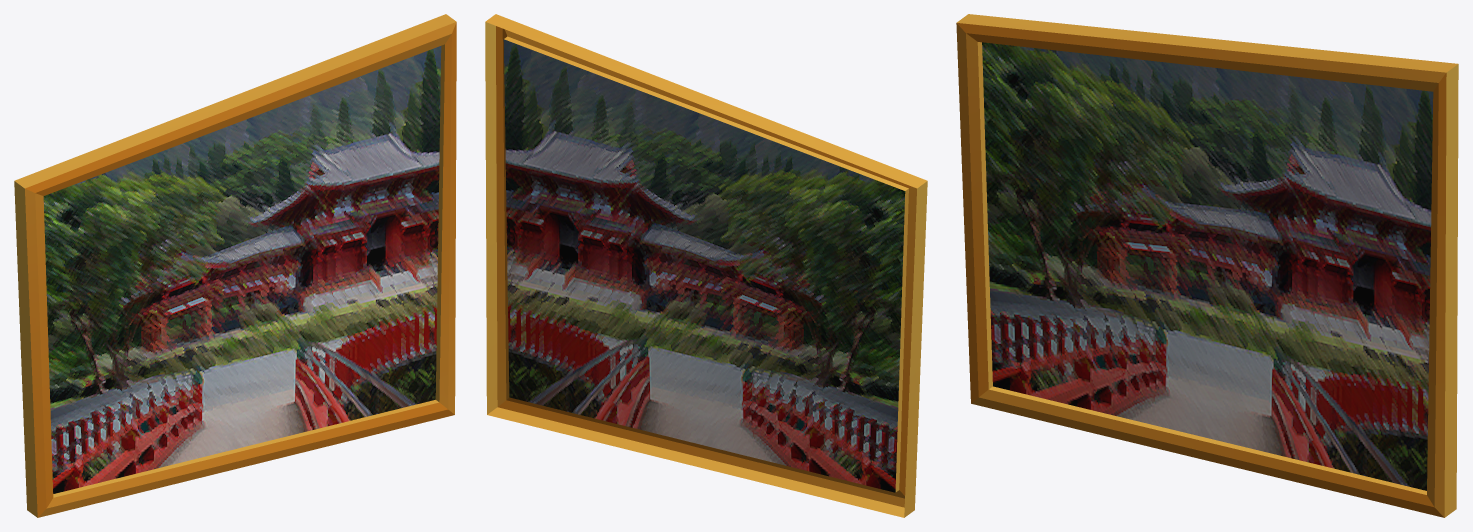
Rendered from painting_07.fbx.
The picture shows the model from 3 angles, left to right: view 1: azimuth 30°, elevation 25°; view 2: azimuth 150°, elevation 25°; view 3: azimuth 330°, elevation 25°; orthographic projection. The views are drawn at different scales.
Parts seen in each view (by area): view 1: painting_07; view 2: painting_07; view 3: painting_07.
Boxes of the visible parts, x1=… form: painting_07: x1=14, y1=14, x2=456, y2=517; painting_07: x1=485, y1=14, x2=927, y2=517; painting_07: x1=956, y1=14, x2=1458, y2=517.
Bounding box in the file's own units: 278 × 242 × 12.95.
